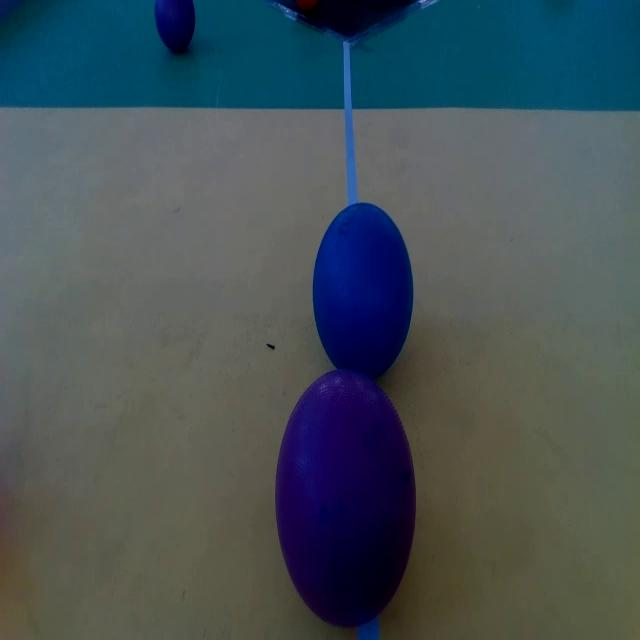blue: (314, 201, 413, 373)
invalid: (278, 372, 414, 627)
